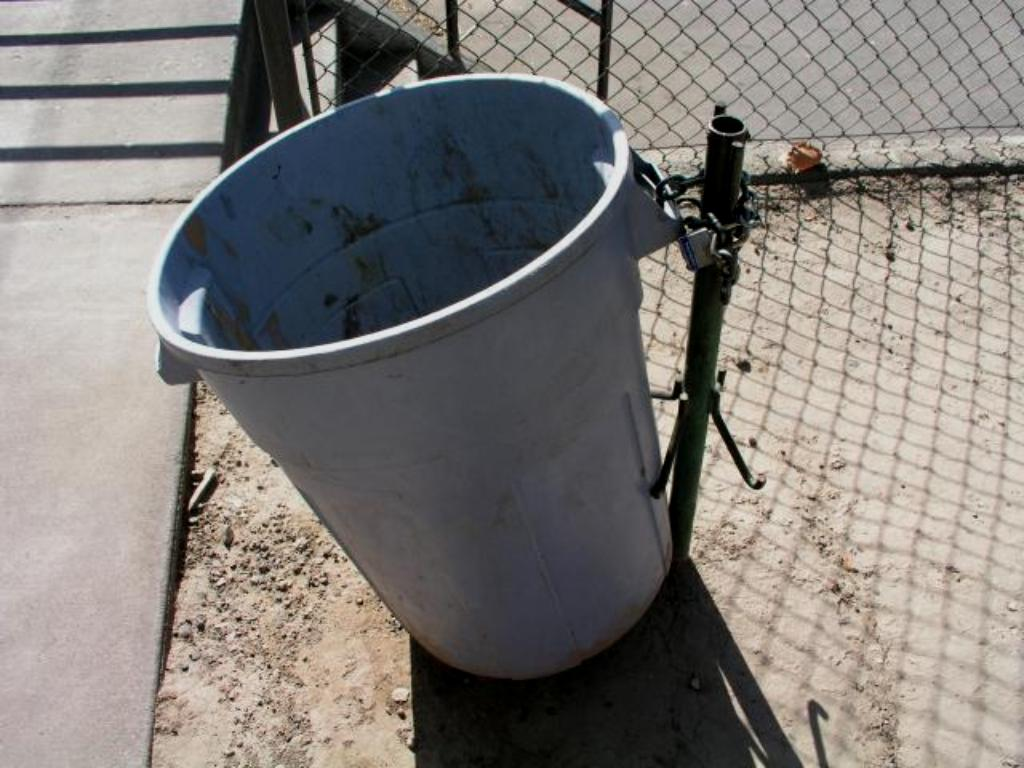dustbin: (156, 84, 750, 678)
